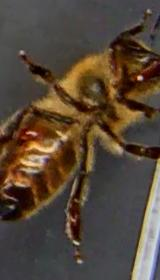varroa_mite: (10, 114, 50, 158)
